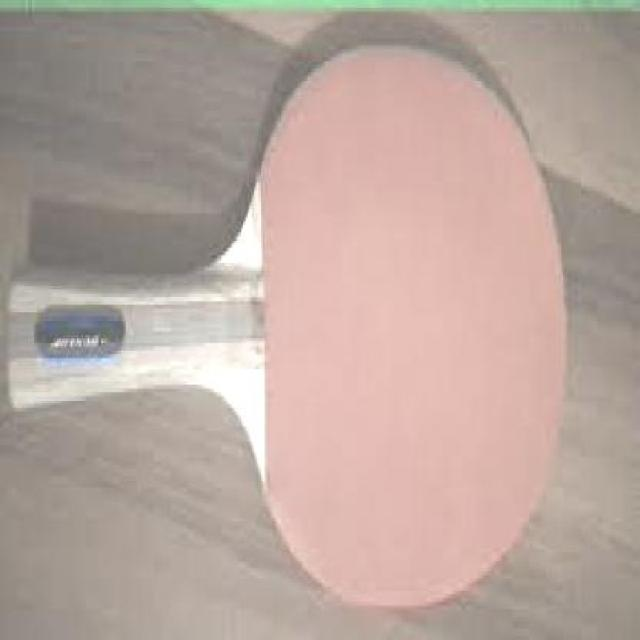table_tennis_racket: (5, 43, 572, 612)
